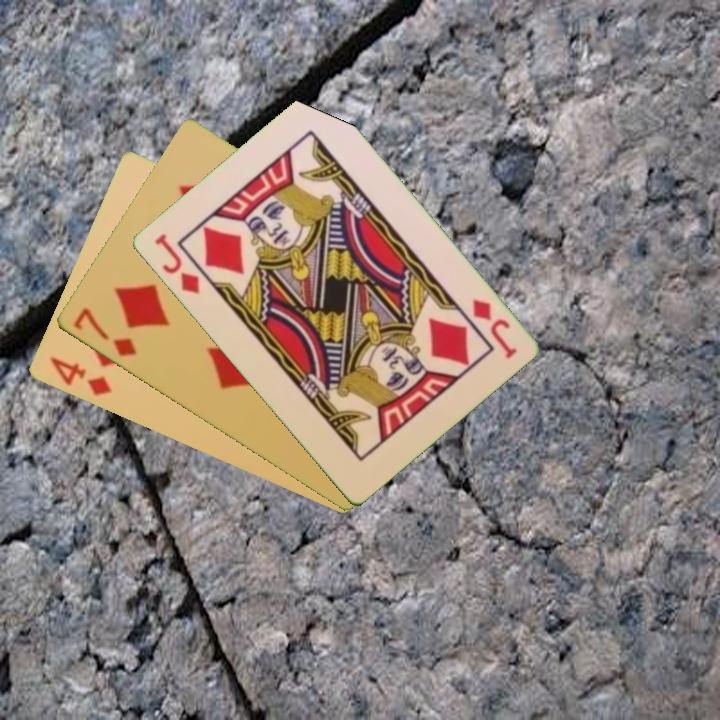4d: (45, 353, 115, 399)
7d: (69, 304, 139, 360)
Jd: (150, 230, 202, 298), (468, 295, 520, 362)
